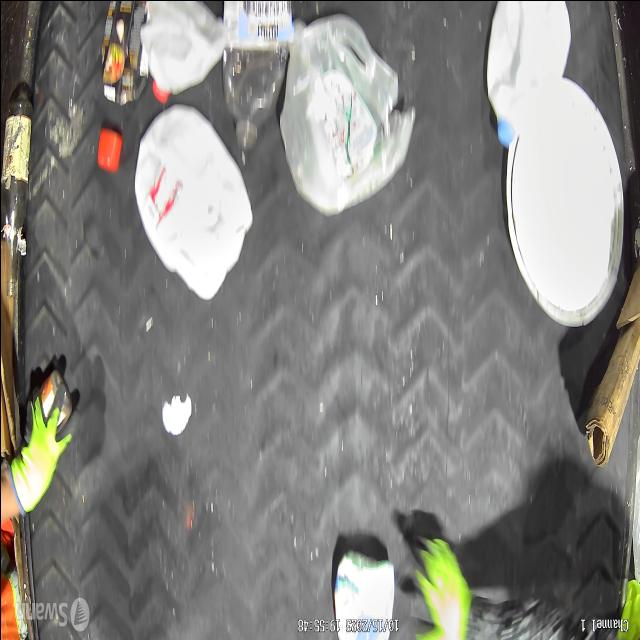milk_jug: (134, 98, 252, 300), (484, 0, 574, 148), (138, 0, 225, 108)
plastic_bottle: (220, 0, 290, 150)
